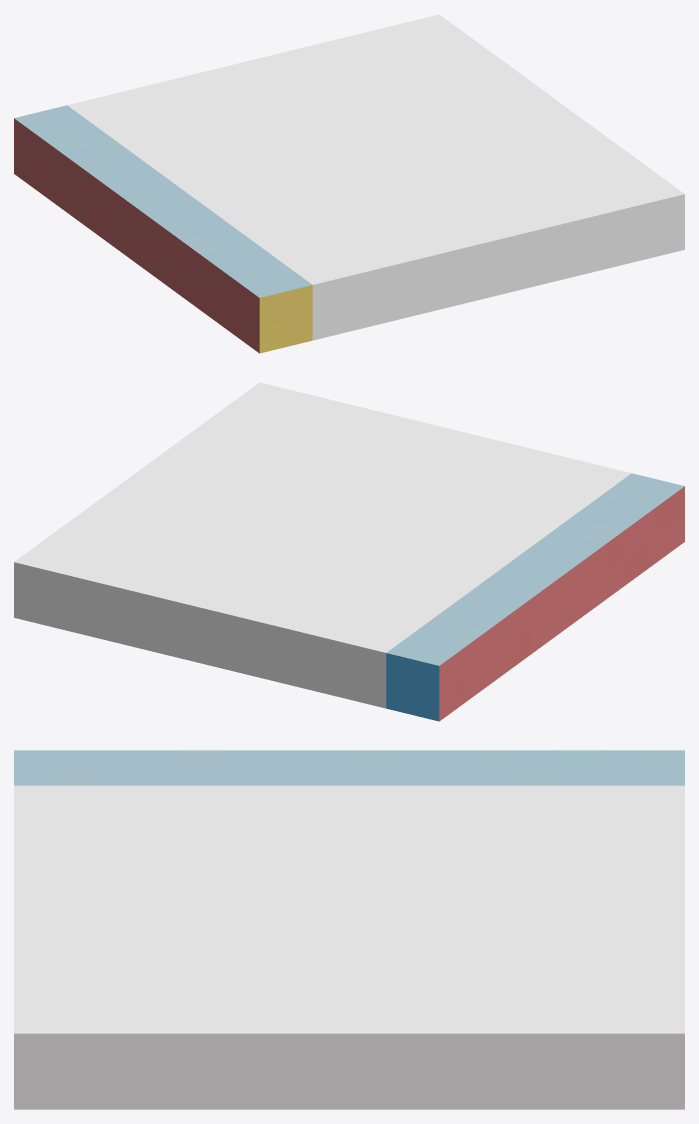
The model's file is floor_tile.gltf.
3 views of the same model, one above another, from view 1: azimuth 30°, elevation 25°; view 2: azimuth 150°, elevation 25°; view 3: azimuth 270°, elevation 25° (orthographic). The views are drawn at different scales.
Parts seen in each view (by area): view 1: mesh; view 2: mesh; view 3: mesh.
Boxes of the visible parts, box(x1,y1,x2,y2) form: mesh: box(14, 14, 684, 353); mesh: box(14, 382, 684, 721); mesh: box(14, 750, 684, 1109).
Bounding box in the file's own units: 1 × 0.125 × 1.
2 materials, 2 textured.
